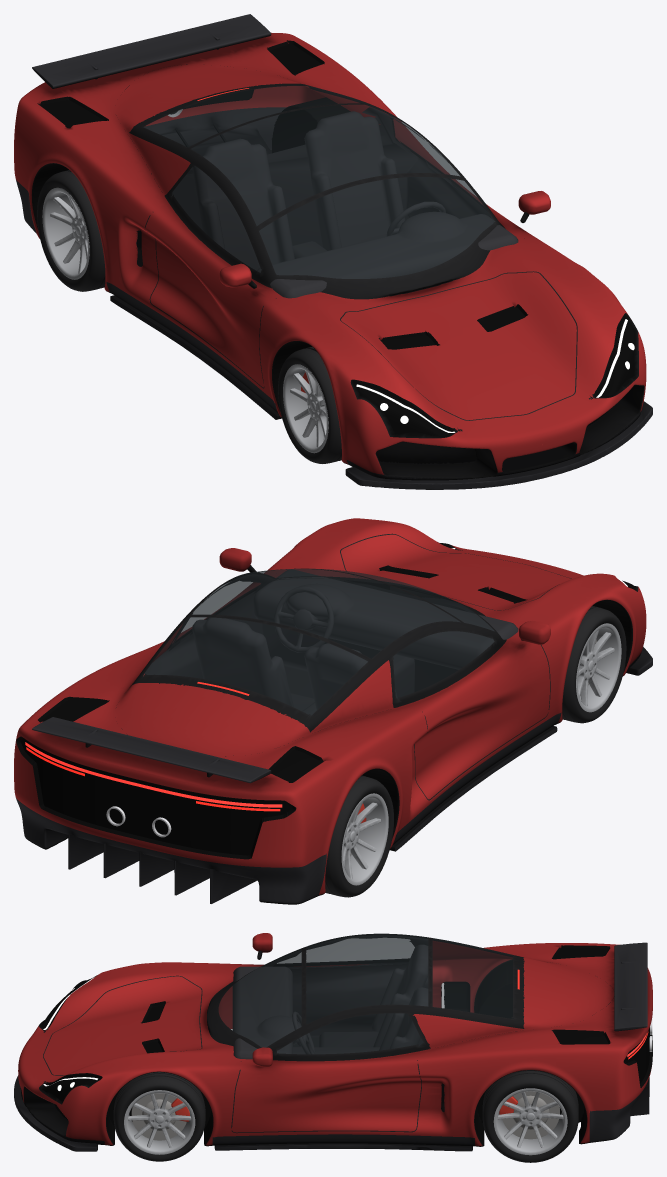
The model's file is aurion.glb.
3 renders of one model, top to bottom at view 1: azimuth 30°, elevation 25°; view 2: azimuth 150°, elevation 25°; view 3: azimuth 270°, elevation 25°, orthographic. The views are drawn at different scales.
Visible parts, largest first — view 1: body, wheel_rr_mesh, wheel_fr_mesh; view 2: body, wheel_rr_mesh, wheel_fr_mesh; view 3: body, wheel_rl_mesh, wheel_fl_mesh.
Boxes of the visible parts, x1=… form: body: x1=14, y1=14, x2=652, y2=489; wheel_rr_mesh: x1=37, y1=170, x2=105, y2=291; wheel_fr_mesh: x1=278, y1=346, x2=341, y2=463; body: x1=14, y1=518, x2=652, y2=904; wheel_rr_mesh: x1=325, y1=775, x2=393, y2=897; wheel_fr_mesh: x1=562, y1=606, x2=626, y2=723; body: x1=14, y1=933, x2=652, y2=1151; wheel_rl_mesh: x1=482, y1=1070, x2=578, y2=1162; wheel_fl_mesh: x1=113, y1=1072, x2=205, y2=1161.
Size of the model in its own units: 2.15 by 1.2 by 4.65.
